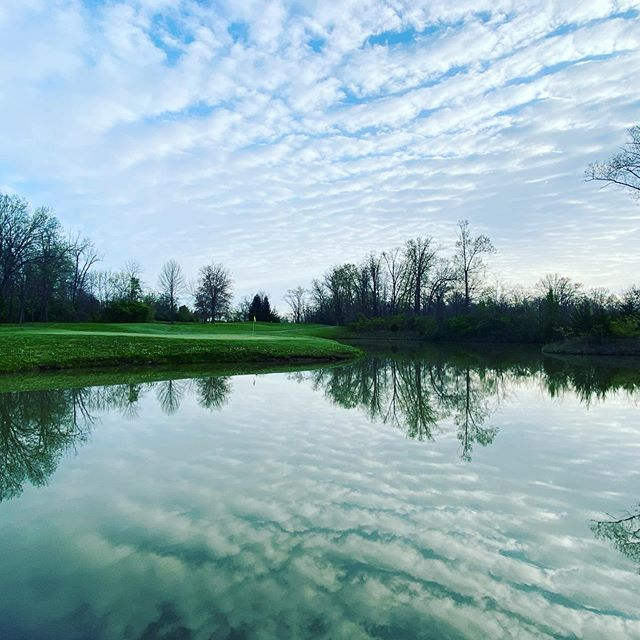river: (1, 353, 640, 640)
sky: (21, 1, 622, 240)
tree: (194, 258, 239, 325), (148, 253, 193, 320)
vegetation: (283, 263, 640, 327)
